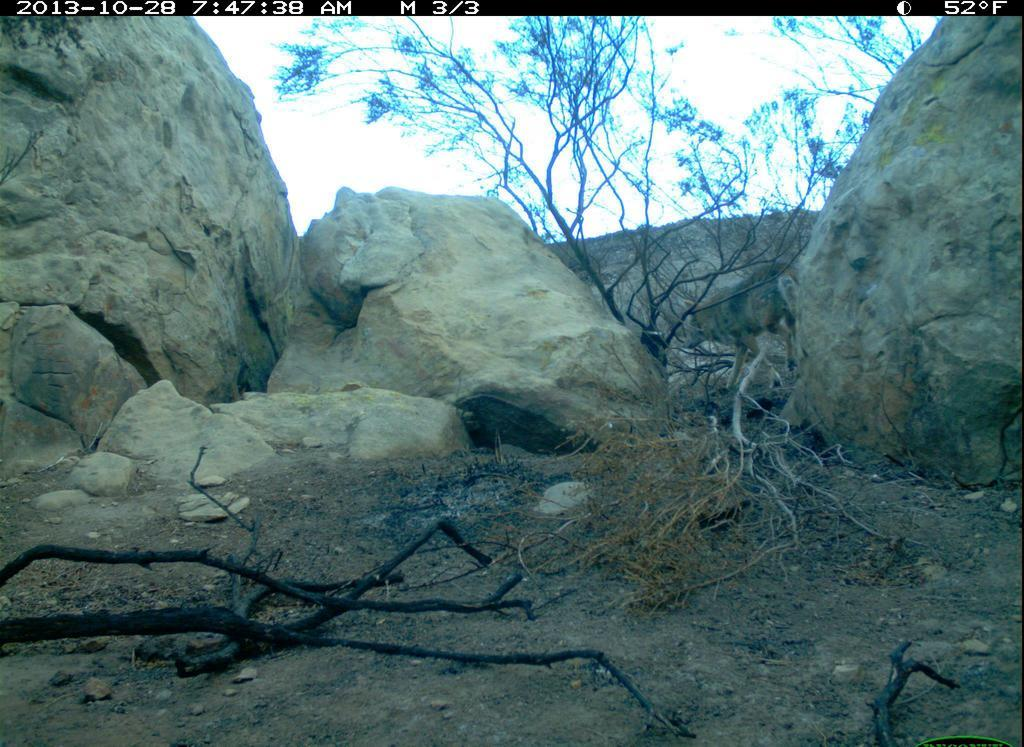coyote: (674, 246, 826, 401)
